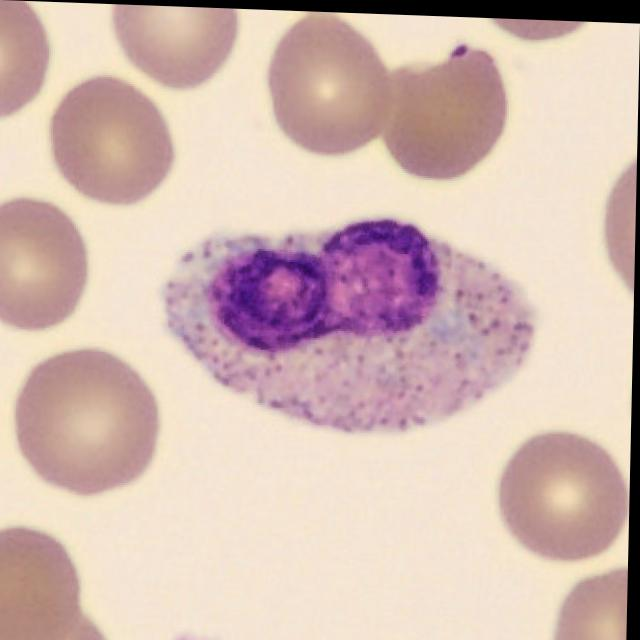Bastonete: (163, 213, 538, 431)
